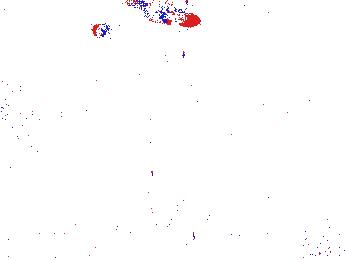X-ray fish: (44, 41, 93, 81)
red belly glassfish: (279, 50, 308, 67)
redtail glassfish: (132, 1, 208, 36)
